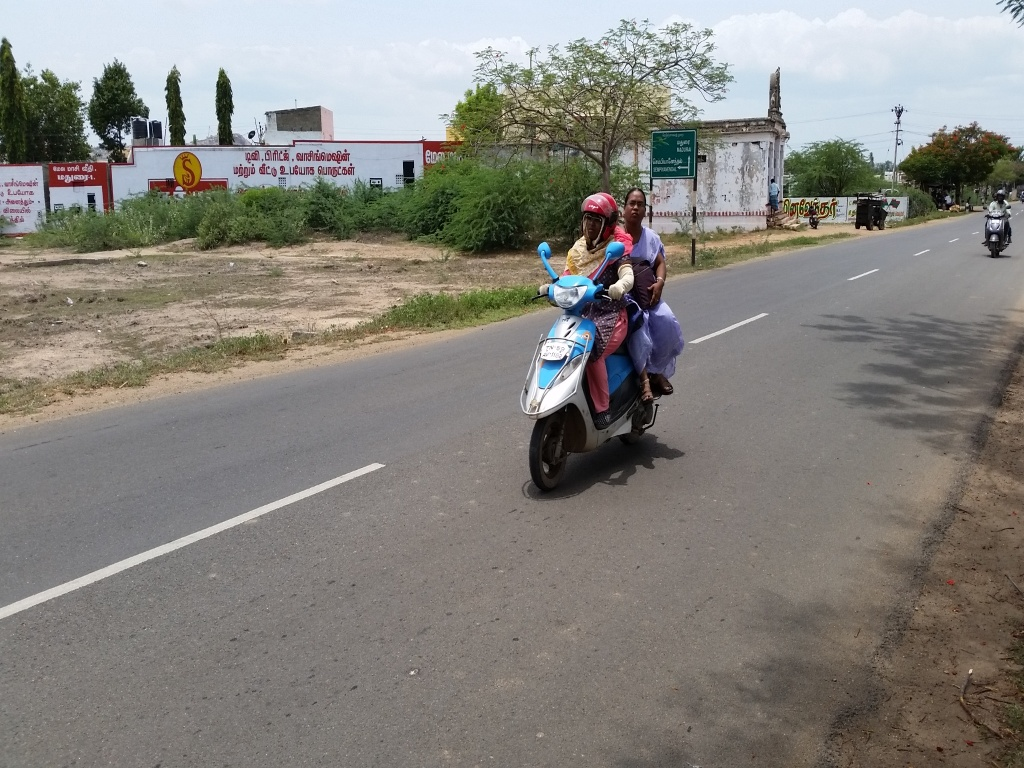biker: (505, 166, 713, 503), (971, 170, 1024, 265)
helmet: (576, 185, 623, 252), (985, 183, 1012, 210)
nohelmet: (622, 179, 651, 237)
